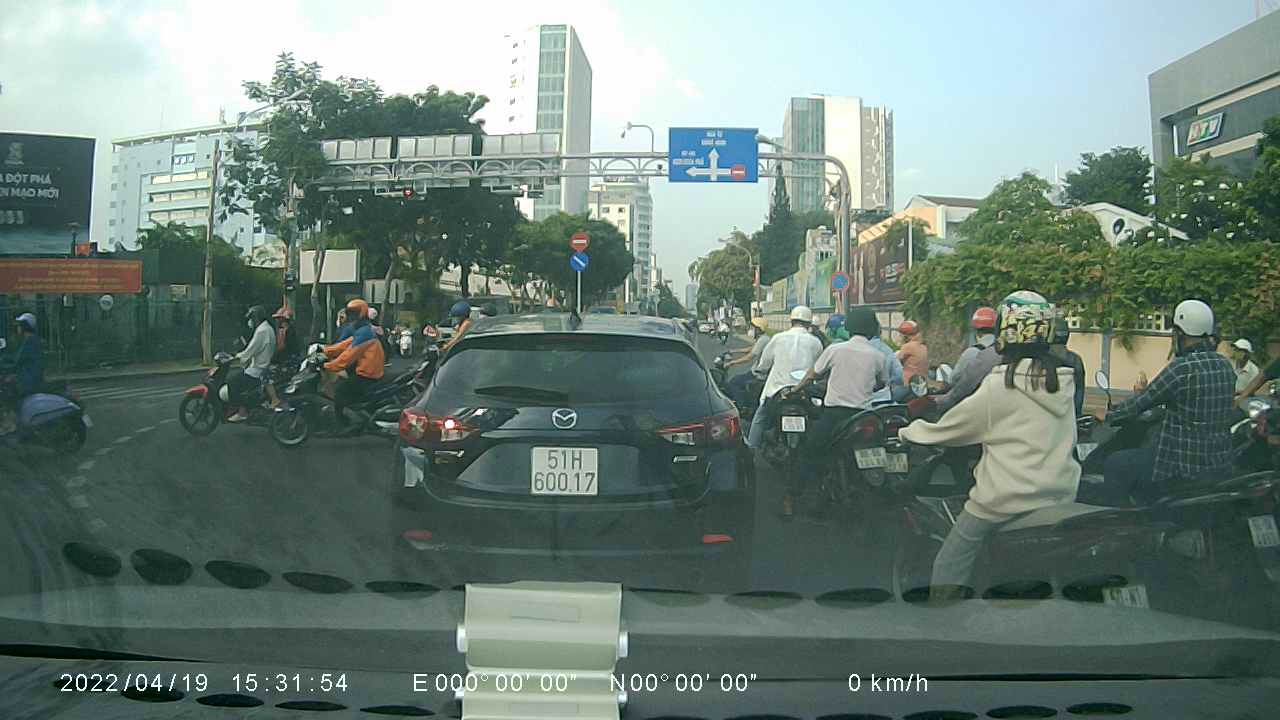Cam di nguoc chieu: (569, 232, 589, 249)
Cam do xe: (828, 268, 851, 291)
Huong di phai re phai: (569, 252, 592, 272)
